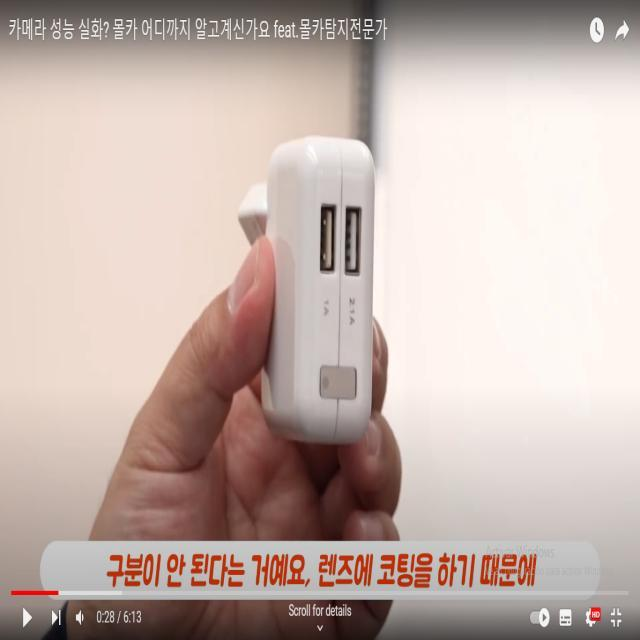hidden camera: (322, 375, 329, 390)
